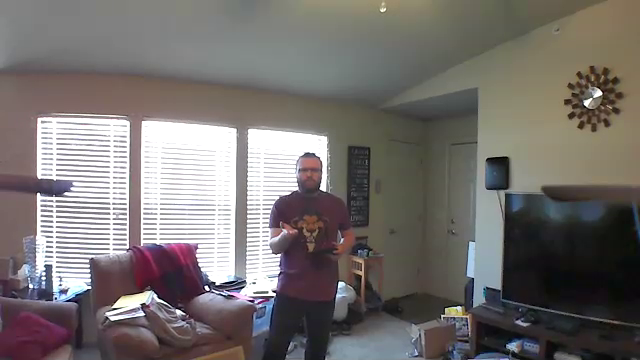land: (276, 220, 303, 239)
